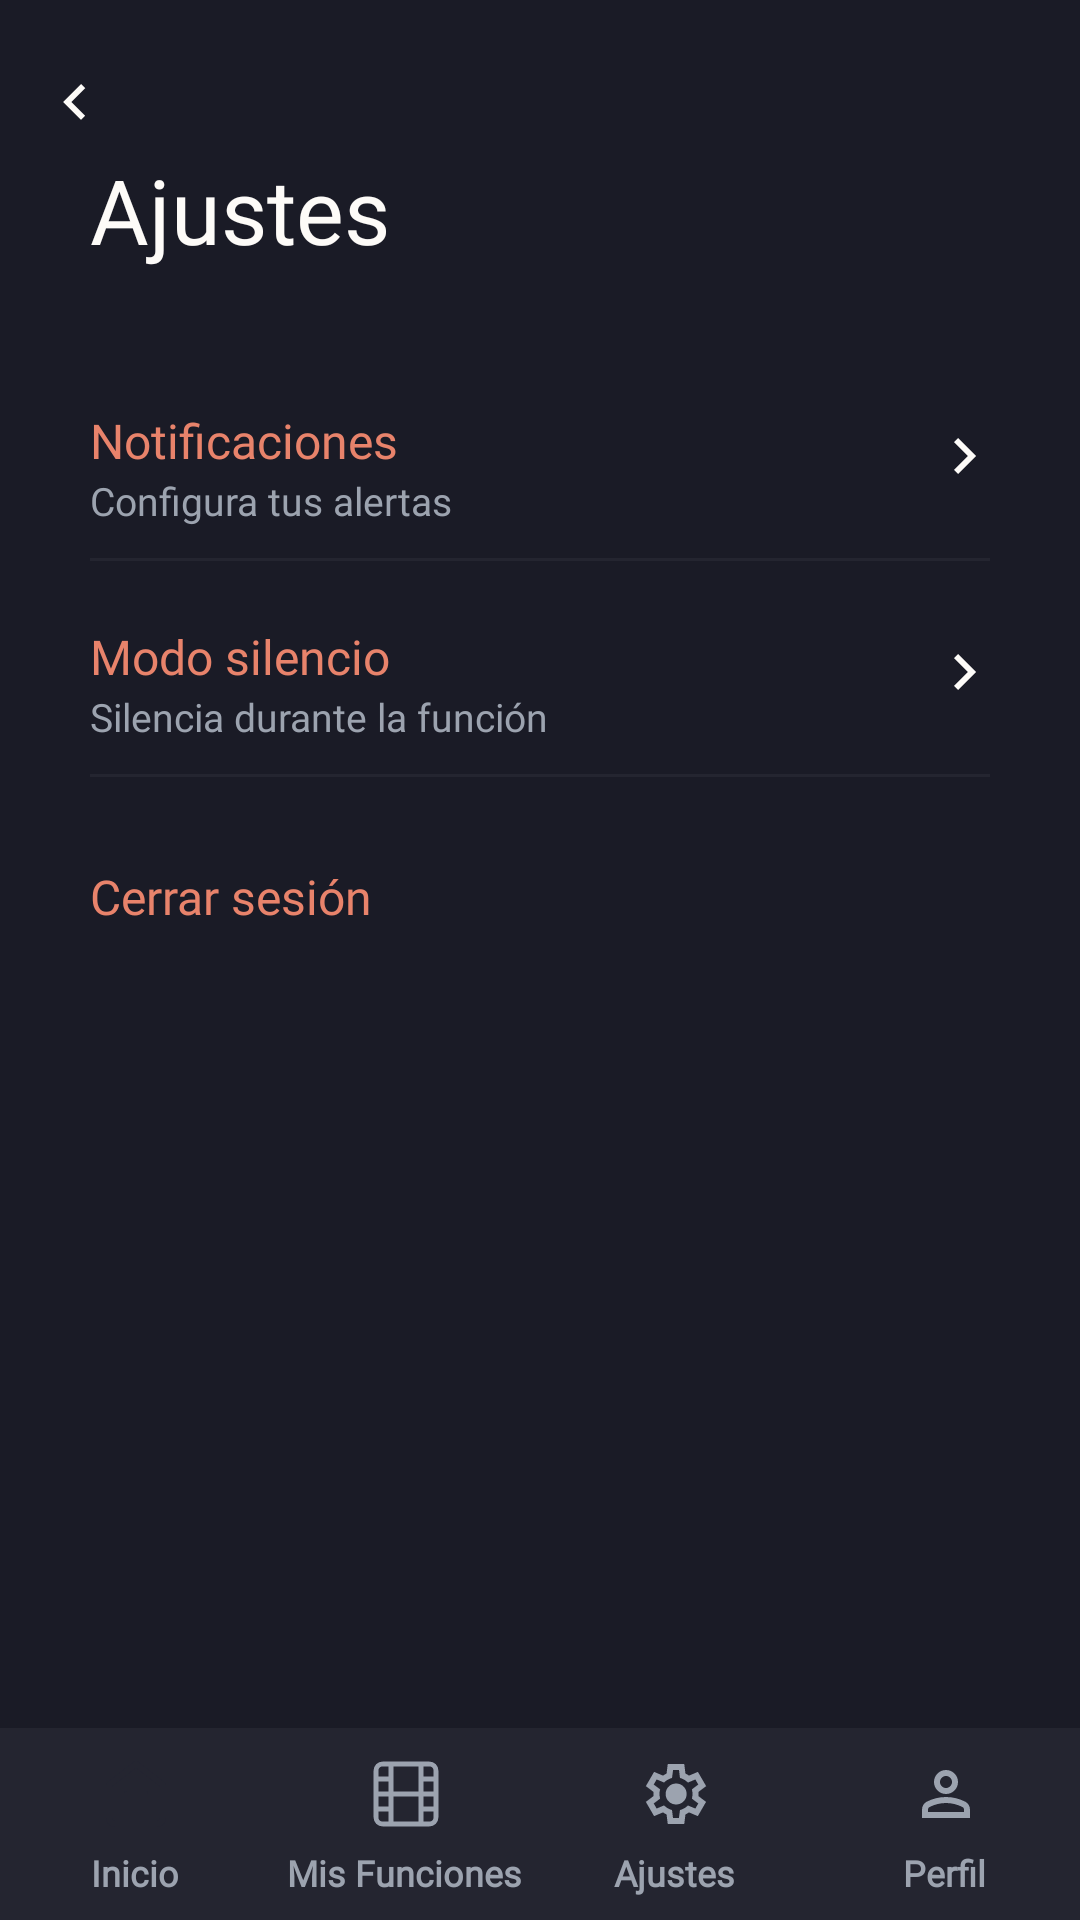

Icons on this 1080 x 1920 Android screen, each with its box as (x1, y1, x2, y2):
Volver: (63, 84, 85, 120)
